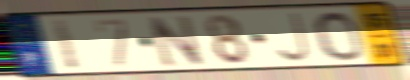7: (90, 16, 131, 69)
8: (205, 13, 250, 66)
I: (49, 17, 83, 72)
J: (273, 11, 313, 64)
N: (145, 13, 208, 69)
O: (311, 10, 367, 63)
